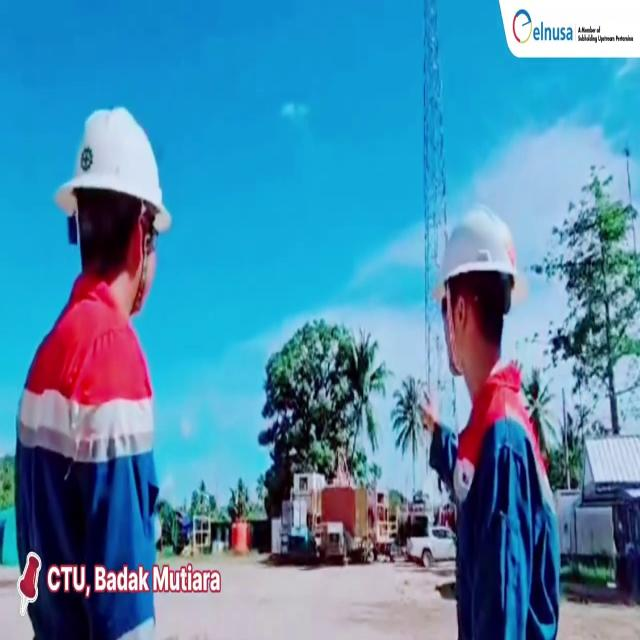Hardhat: (55, 105, 185, 229), (426, 203, 533, 297)
No Glove: (417, 390, 438, 436)
Overall Suit: (16, 280, 155, 640), (432, 385, 560, 640)
Strapped: (133, 220, 153, 312), (444, 281, 461, 376)
